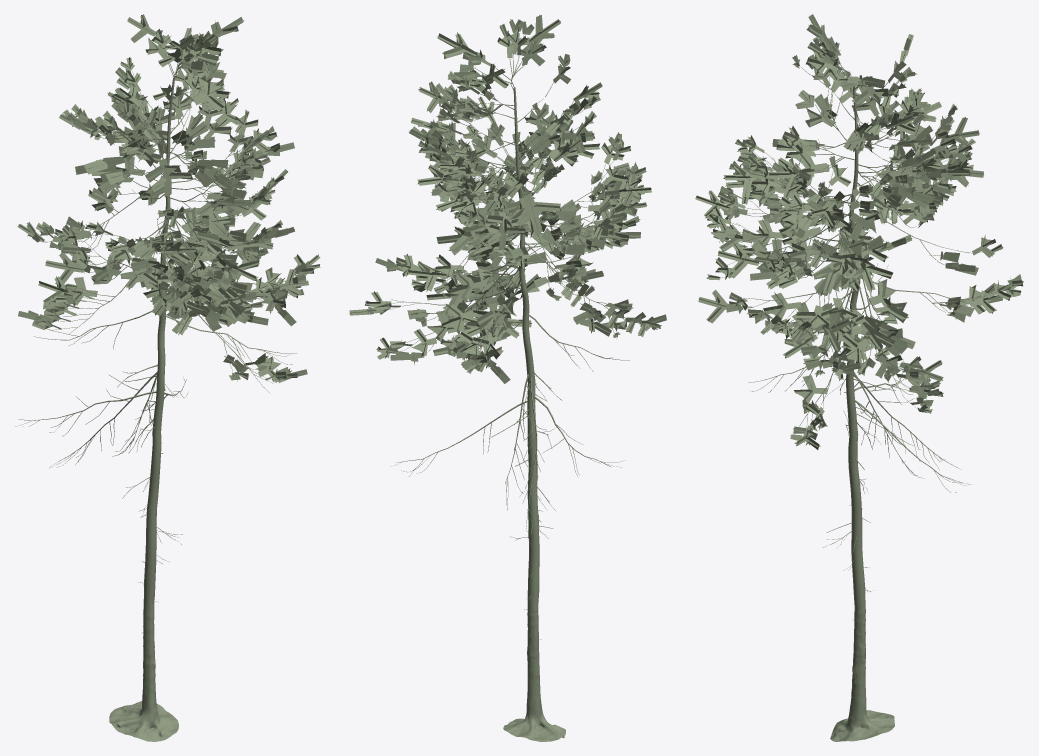
The model's file is fir_tree_01_c_LOD2.glb.
3 views of the same model, side by side, from view 1: azimuth 30°, elevation 25°; view 2: azimuth 150°, elevation 25°; view 3: azimuth 270°, elevation 25° (orthographic). The views are drawn at different scales.
Visible parts, largest first — view 1: fir_tree_01_c_LOD2; view 2: fir_tree_01_c_LOD2; view 3: fir_tree_01_c_LOD2.
Boxes of the visible parts, x1,y1,x2,y2 form: fir_tree_01_c_LOD2: (15, 14, 320, 741); fir_tree_01_c_LOD2: (349, 15, 666, 741); fir_tree_01_c_LOD2: (695, 14, 1023, 741).
Bounding box in the file's own units: 6.35 × 14.55 × 6.01.
